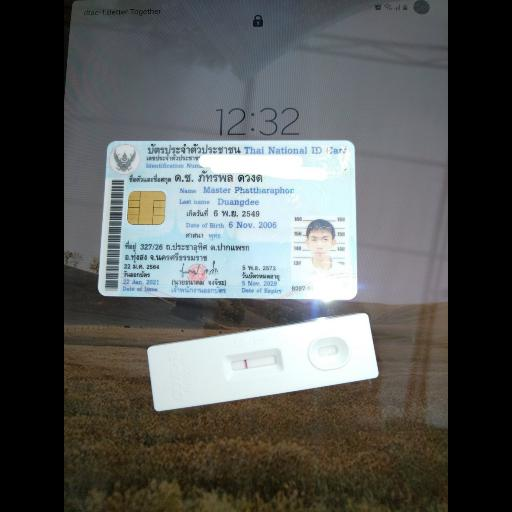Neg: (148, 312, 382, 412)
